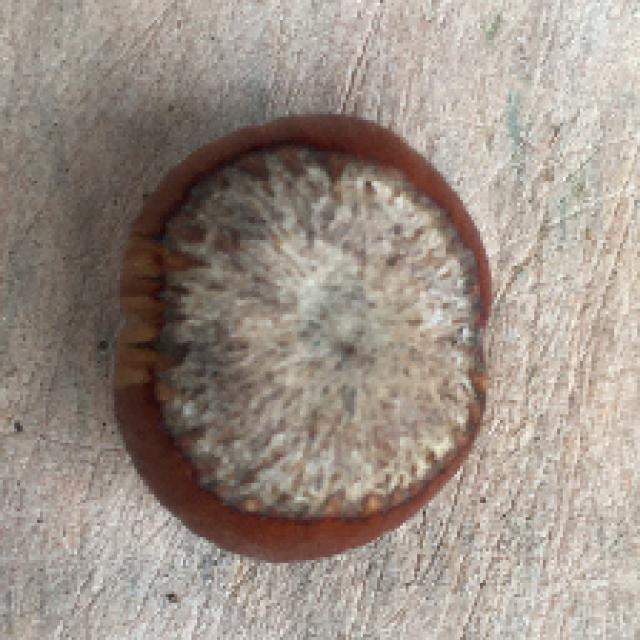qualityHazelnut: (101, 108, 502, 570)
